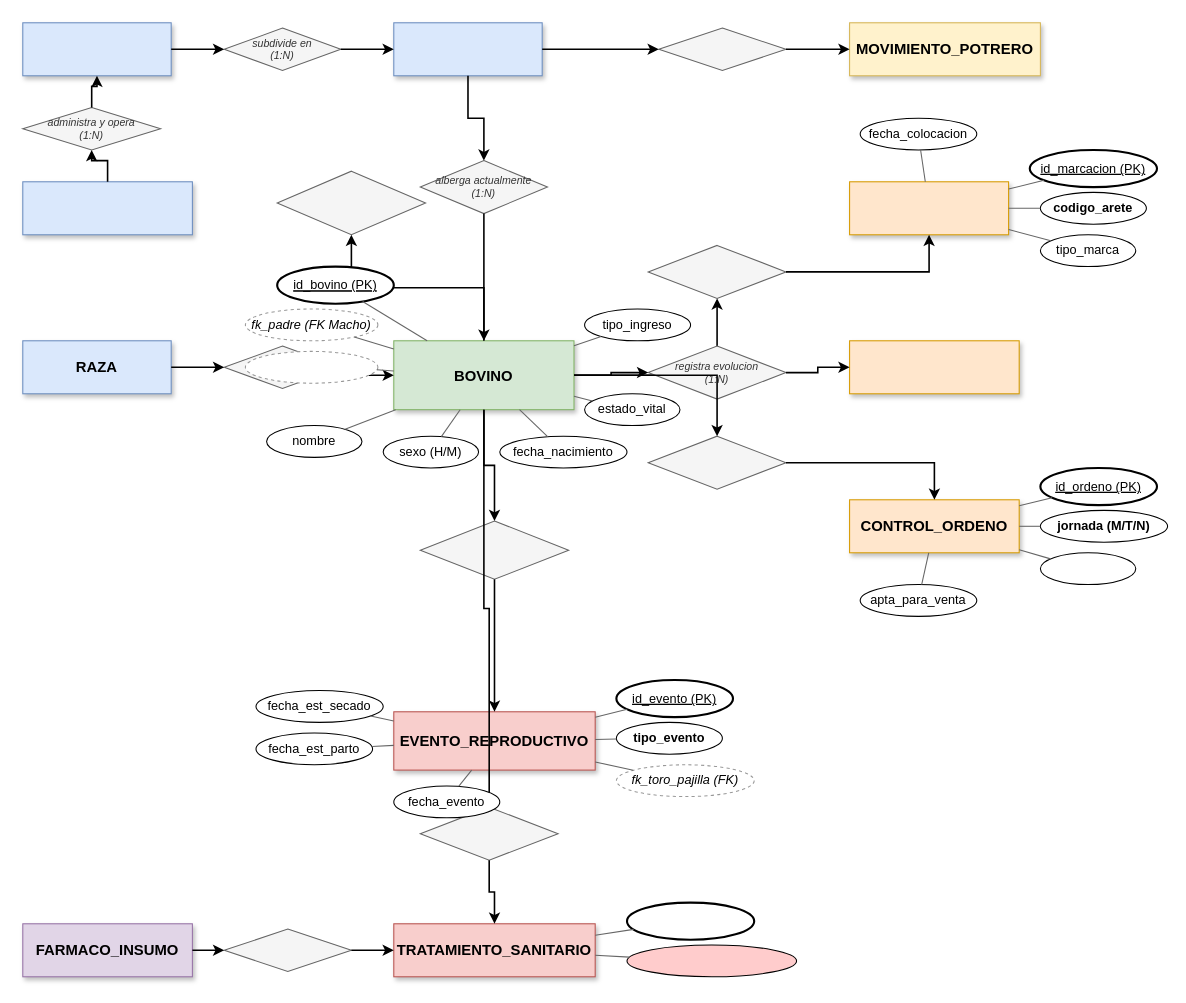
The diagram is 1186 pixels wide and 1003 high, and some of its shapes have lost their labels. The shapes that lost their labels are listed below. From the top down, each one's centre as x and y in pixels, then its label:
At point (97, 50): "HACIENDA".
At point (468, 50): "POTRERO".
At point (722, 48): "se traslada por (1:N)".
At point (108, 209): "USUARIO_SISTEMA".
At point (351, 202): "engendra a (Padre/Madre 1:N) [Valida Toro ≠ Padre]".
At point (929, 209): "MARCACION".
At point (716, 271): "porta historicamente (1:N)".
At point (311, 366): "fk_madre (FK Hembra)".
At point (935, 368): "CONTROL_PESAJE".
At point (716, 462): "produce en (1:N)".
At point (494, 549): "experimenta ciclo / monta (1:N)".
At point (1087, 568): "litros_leche".
At point (488, 833): "recibe aplicacion (1:N)".
At point (690, 920): "id_tratamiento (PK)".
At point (287, 949): "se prescribe en (1:N)".
At point (711, 960): "fecha_fin_retiro_leche".
